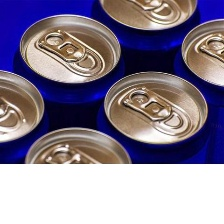can: (8, 11, 127, 126), (94, 68, 209, 162), (173, 17, 224, 165), (90, 0, 202, 59), (0, 66, 50, 164), (20, 123, 134, 164)
